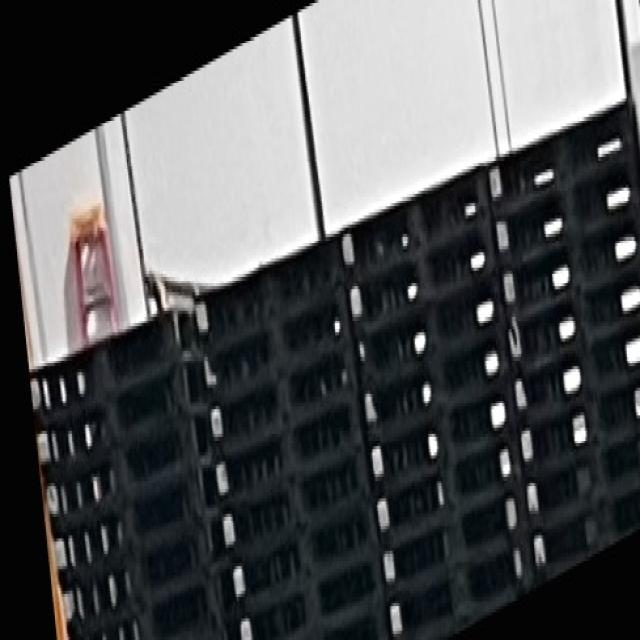igps: (483, 83, 640, 225), (56, 514, 230, 640), (49, 462, 222, 587), (27, 299, 201, 422), (32, 356, 212, 474), (189, 221, 348, 352), (214, 443, 384, 561), (42, 412, 219, 525), (201, 277, 356, 403), (207, 395, 375, 506), (226, 498, 388, 612), (338, 156, 488, 276), (346, 215, 496, 332), (205, 344, 366, 452), (368, 486, 532, 590), (348, 332, 509, 437), (351, 271, 499, 382), (364, 386, 516, 494), (491, 152, 640, 262), (367, 442, 519, 547), (501, 258, 640, 369), (380, 541, 533, 640), (496, 211, 640, 315), (233, 549, 391, 640), (509, 316, 640, 421), (64, 568, 232, 640), (523, 425, 640, 526), (517, 377, 640, 473), (528, 478, 640, 577)
